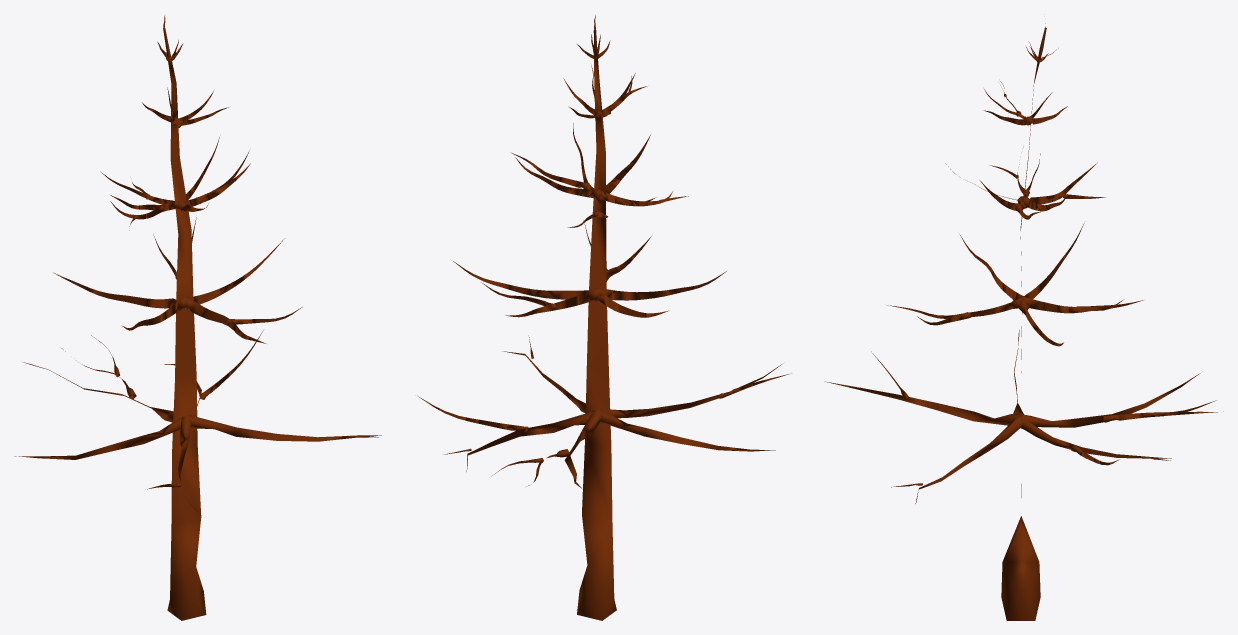
The model's file is Dead Pine Tree.fbx.
3 views of the same model, side by side, from view 1: azimuth 30°, elevation 25°; view 2: azimuth 150°, elevation 25°; view 3: azimuth 270°, elevation 25° (orthographic). The views are drawn at different scales.
Parts seen in each view (by area): view 1: Dead Pine Tree; view 2: Dead Pine Tree; view 3: Dead Pine Tree.
Part boxes in pixels (x1,y1,x2,y2): Dead Pine Tree: [14, 15, 381, 620]; Dead Pine Tree: [418, 15, 791, 620]; Dead Pine Tree: [824, 23, 1223, 620].
Bounding box in the file's own units: 1.81 × 3.2 × 1.95.
